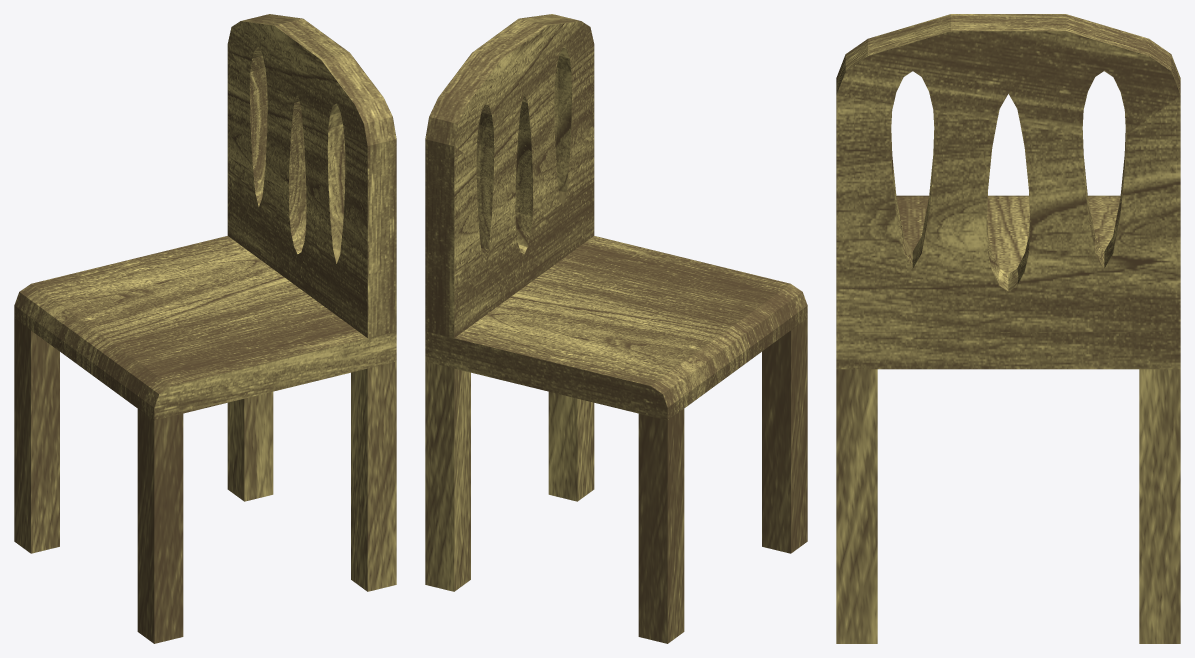
File: Silla.glb
The picture shows the model from 3 angles, left to right: view 1: azimuth 30°, elevation 25°; view 2: azimuth 150°, elevation 25°; view 3: azimuth 270°, elevation 25°; orthographic projection. The views are drawn at different scales.
Visible parts, largest first — view 1: Cube.003; view 2: Cube.003; view 3: Cube.003.
Boxes of the visible parts, x1,y1,x2,y2 form: Cube.003: (14, 14, 396, 643); Cube.003: (425, 14, 807, 643); Cube.003: (836, 14, 1180, 643).
Bounding box in the file's own units: 2.27 × 4.46 × 2.27.
Materials: 1 (1 with a texture image).
